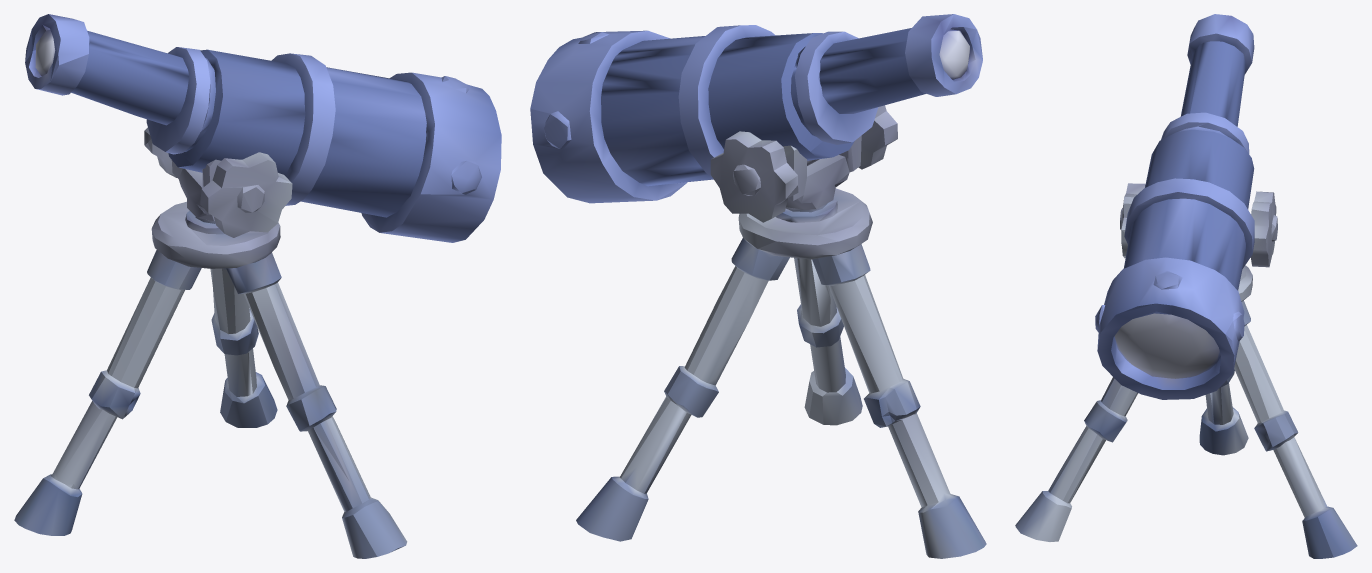
File: Telescope01.fbx
3 renders of one model, left to right at view 1: azimuth 30°, elevation 25°; view 2: azimuth 150°, elevation 25°; view 3: azimuth 270°, elevation 25°, orthographic. The views are drawn at different scales.
Visible parts, largest first — view 1: Body, Stand; view 2: Body, Stand; view 3: Body, Stand.
Boxes of the visible parts, bbox=[...] form: Body: bbox=[25, 14, 501, 242]; Stand: bbox=[14, 127, 407, 558]; Body: bbox=[530, 14, 982, 203]; Stand: bbox=[576, 105, 986, 558]; Body: bbox=[1095, 14, 1254, 399]; Stand: bbox=[1015, 183, 1357, 558].
Bounding box in the file's own units: 111 × 125 × 89.4.
